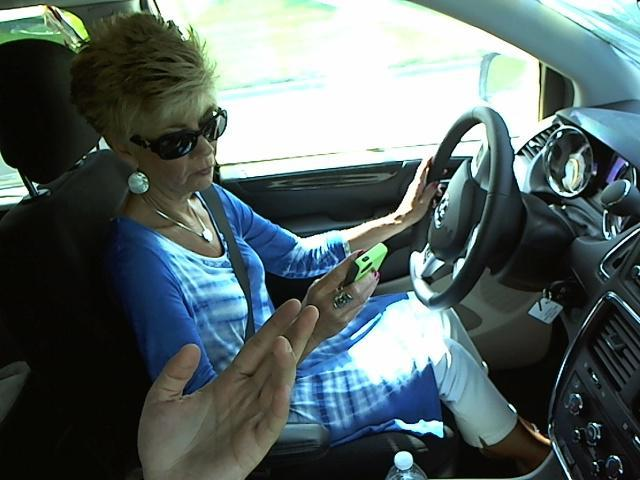PhoneUse: (345, 236, 394, 311)
